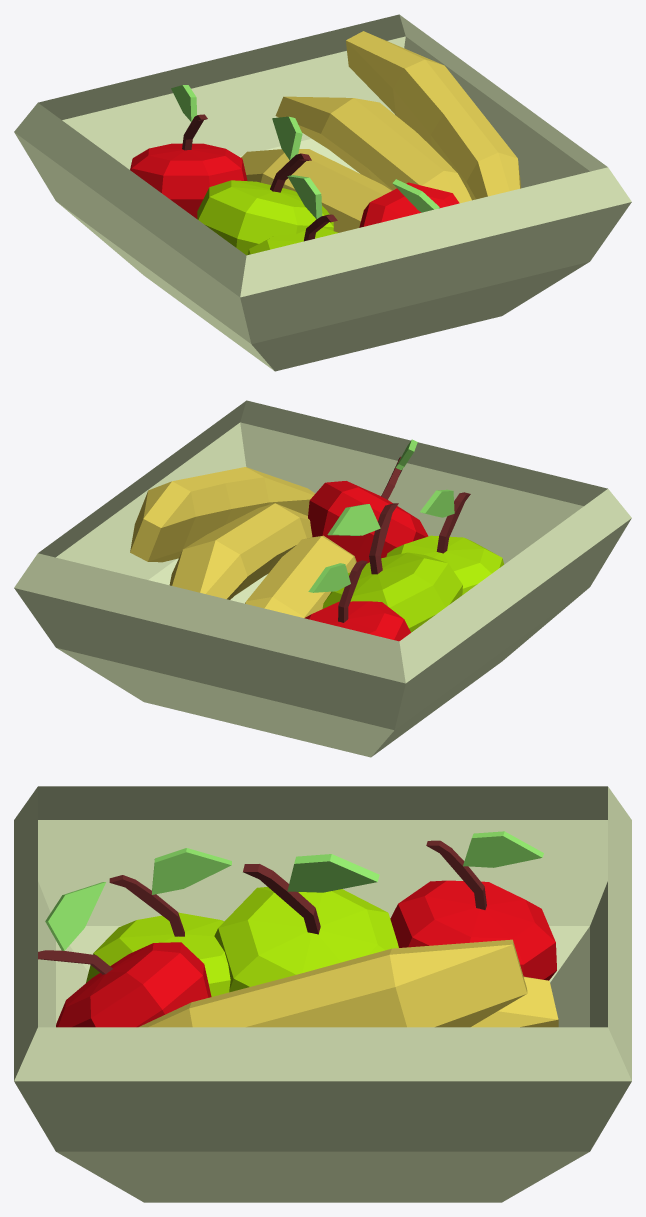
File: meyvetabagi.fbx
3 views of the same model, one above another, from view 1: azimuth 30°, elevation 25°; view 2: azimuth 150°, elevation 25°; view 3: azimuth 270°, elevation 25° (orthographic). The views are drawn at different scales.
Visible parts, largest first — view 1: Cube, Cube.001, Cube.002, Sphere.003, Sphere.001, Cube.003, Sphere.002, Sphere; view 2: Cube, Cube.001, Cube.002, Sphere.003, Sphere.002, Cube.003, Sphere, Sphere.001; view 3: Cube, Cube.001, Sphere.003, Sphere.001, Sphere.002, Sphere, Cube.002.
Boxes of the visible parts, left/top/right/bottom form: Cube: left=14, top=14, right=631, bottom=371; Cube.001: left=346, top=31, right=521, bottom=200; Cube.002: left=275, top=96, right=471, bottom=203; Sphere.003: left=197, top=116, right=333, bottom=255; Sphere.001: left=130, top=85, right=247, bottom=218; Cube.003: left=241, top=149, right=391, bottom=232; Sphere.002: left=359, top=179, right=459, bottom=227; Sphere: left=247, top=175, right=338, bottom=254; Cube: left=14, top=400, right=631, bottom=757; Cube.001: left=130, top=467, right=315, bottom=562; Cube.002: left=169, top=503, right=312, bottom=599; Sphere.003: left=322, top=503, right=462, bottom=632; Sphere.002: left=308, top=439, right=428, bottom=563; Cube.003: left=245, top=535, right=356, bottom=617; Sphere: left=386, top=489, right=503, bottom=594; Sphere.001: left=304, top=560, right=410, bottom=641; Cube: left=14, top=786, right=631, bottom=1202; Cube.001: left=139, top=939, right=527, bottom=1027; Sphere.003: left=214, top=854, right=398, bottom=992; Sphere.001: left=390, top=831, right=556, bottom=980; Sphere.002: left=38, top=882, right=211, bottom=1027; Sphere: left=86, top=848, right=231, bottom=996; Cube.002: left=471, top=976, right=558, bottom=1027.
Size of the model in its own units: 176 by 80.6 by 176.
